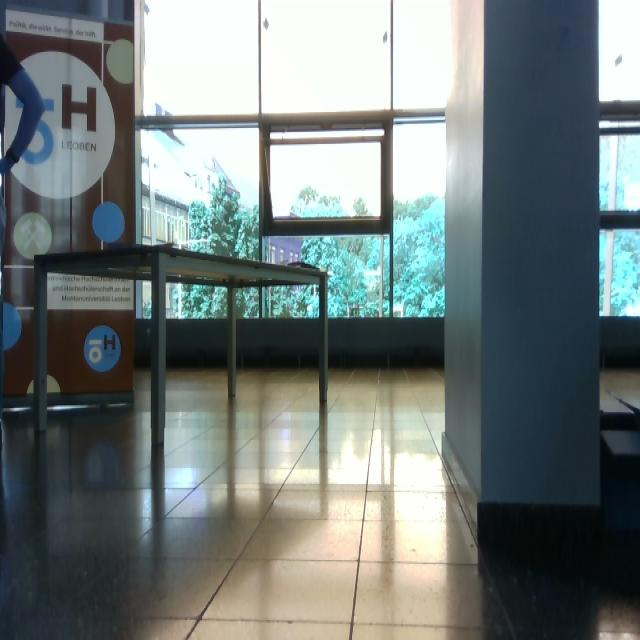door: (1, 1, 139, 424)
light bulb: (13, 212, 53, 260), (92, 201, 126, 245), (106, 38, 134, 85), (2, 301, 22, 352), (27, 374, 61, 396), (615, 55, 623, 67), (263, 17, 270, 30)
person: (1, 32, 46, 450)
pillar: (443, 1, 603, 529)
table: (31, 242, 334, 449)
tiled floor: (2, 365, 487, 638)
window: (136, 1, 450, 322)
